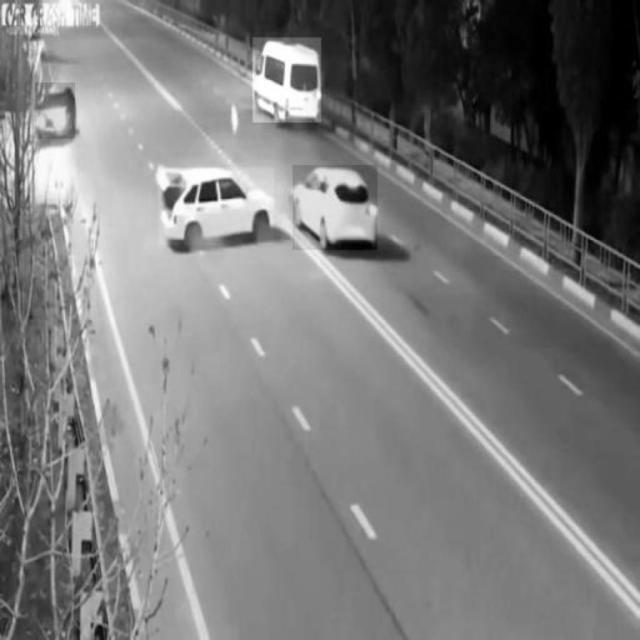vehicle: (159, 168, 273, 245), (292, 165, 378, 251), (252, 37, 320, 123), (35, 83, 75, 139)
